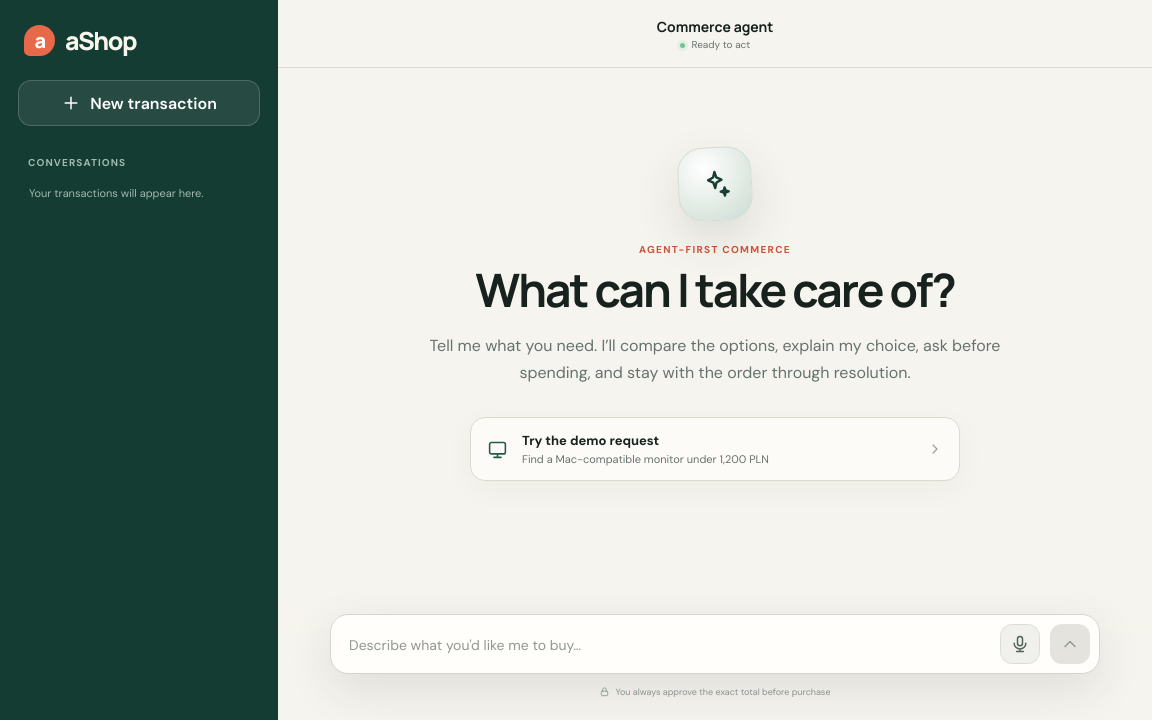
single-chat commerce experience › allows a new conversation while a request is pending without letting the late response take over
The width and height of the screenshot is (1152, 720).
Type "Find a standing desk" into the text box named "Message the commerce agent". click: {"x": 670, "y": 645}
box: 349,626 -> 990,664
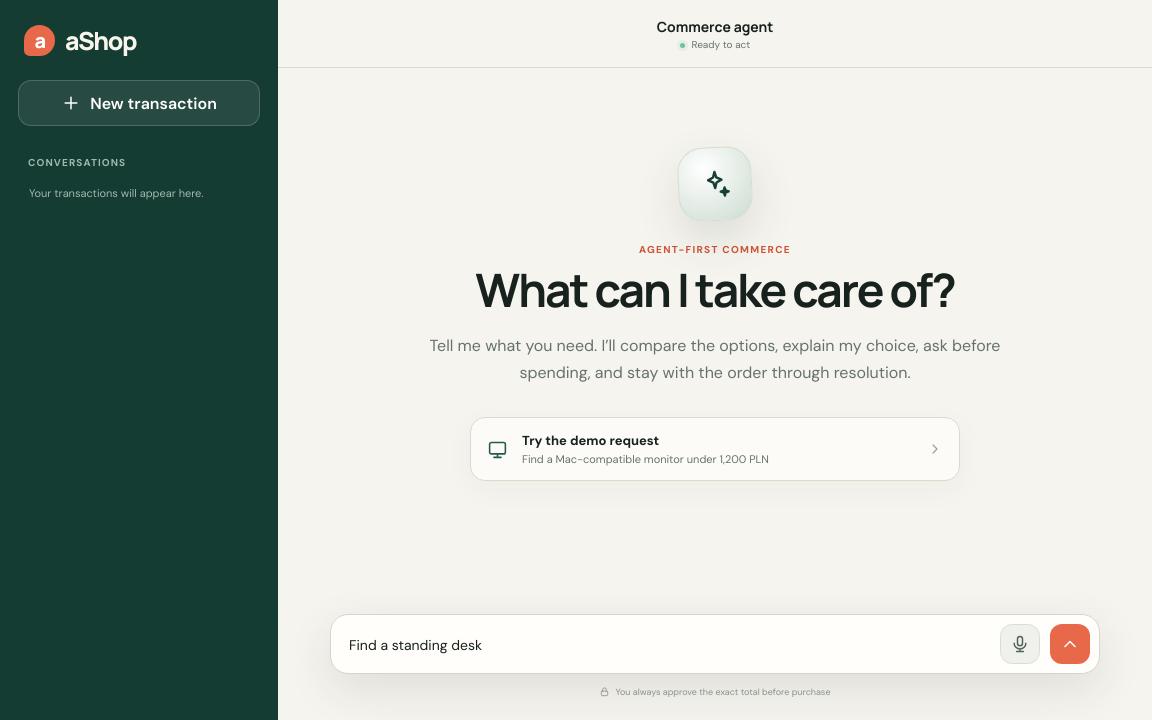
Click the button named "Send message". click: {"x": 1070, "y": 644}
box: 1050,624 -> 1090,664
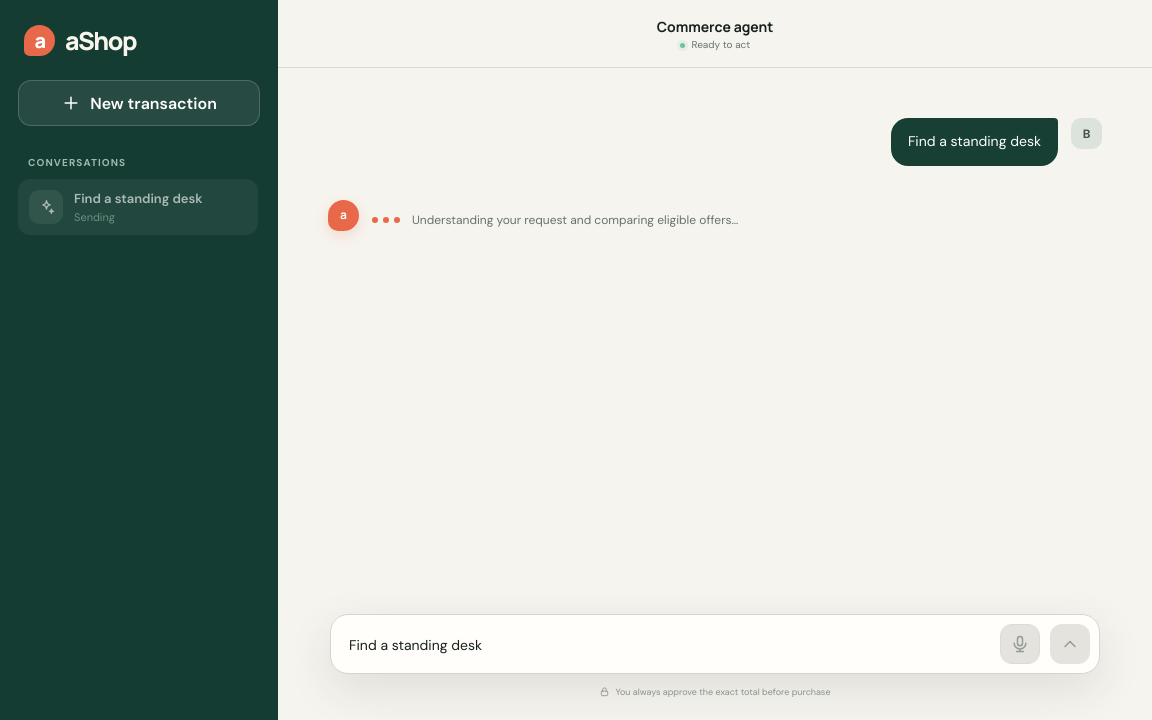
Now the button "Find a standing desk Sending" is disabled, box 18,179 -> 258,235
Click the button "New transaction". click: {"x": 139, "y": 103}
box: 18,80 -> 260,126
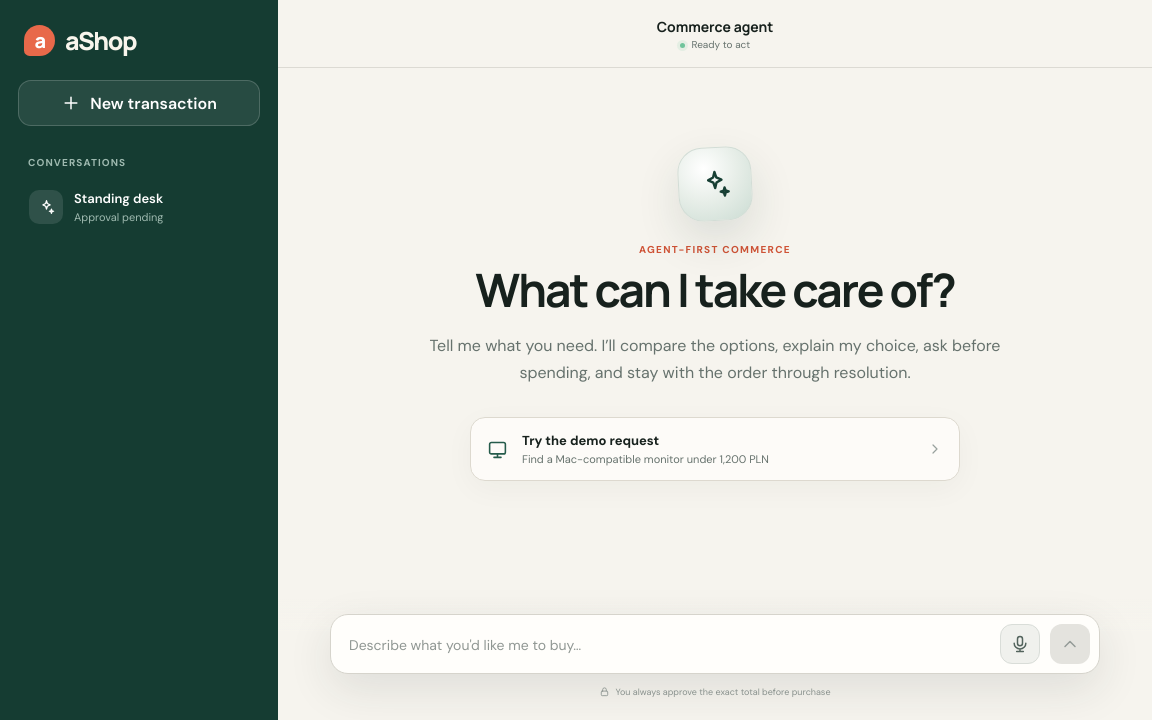
Now the button "Standing desk Approval pending" is enabled, box 18,179 -> 258,235
Now the heading "What can I take care of?" is shown, box 475,264 -> 955,315
